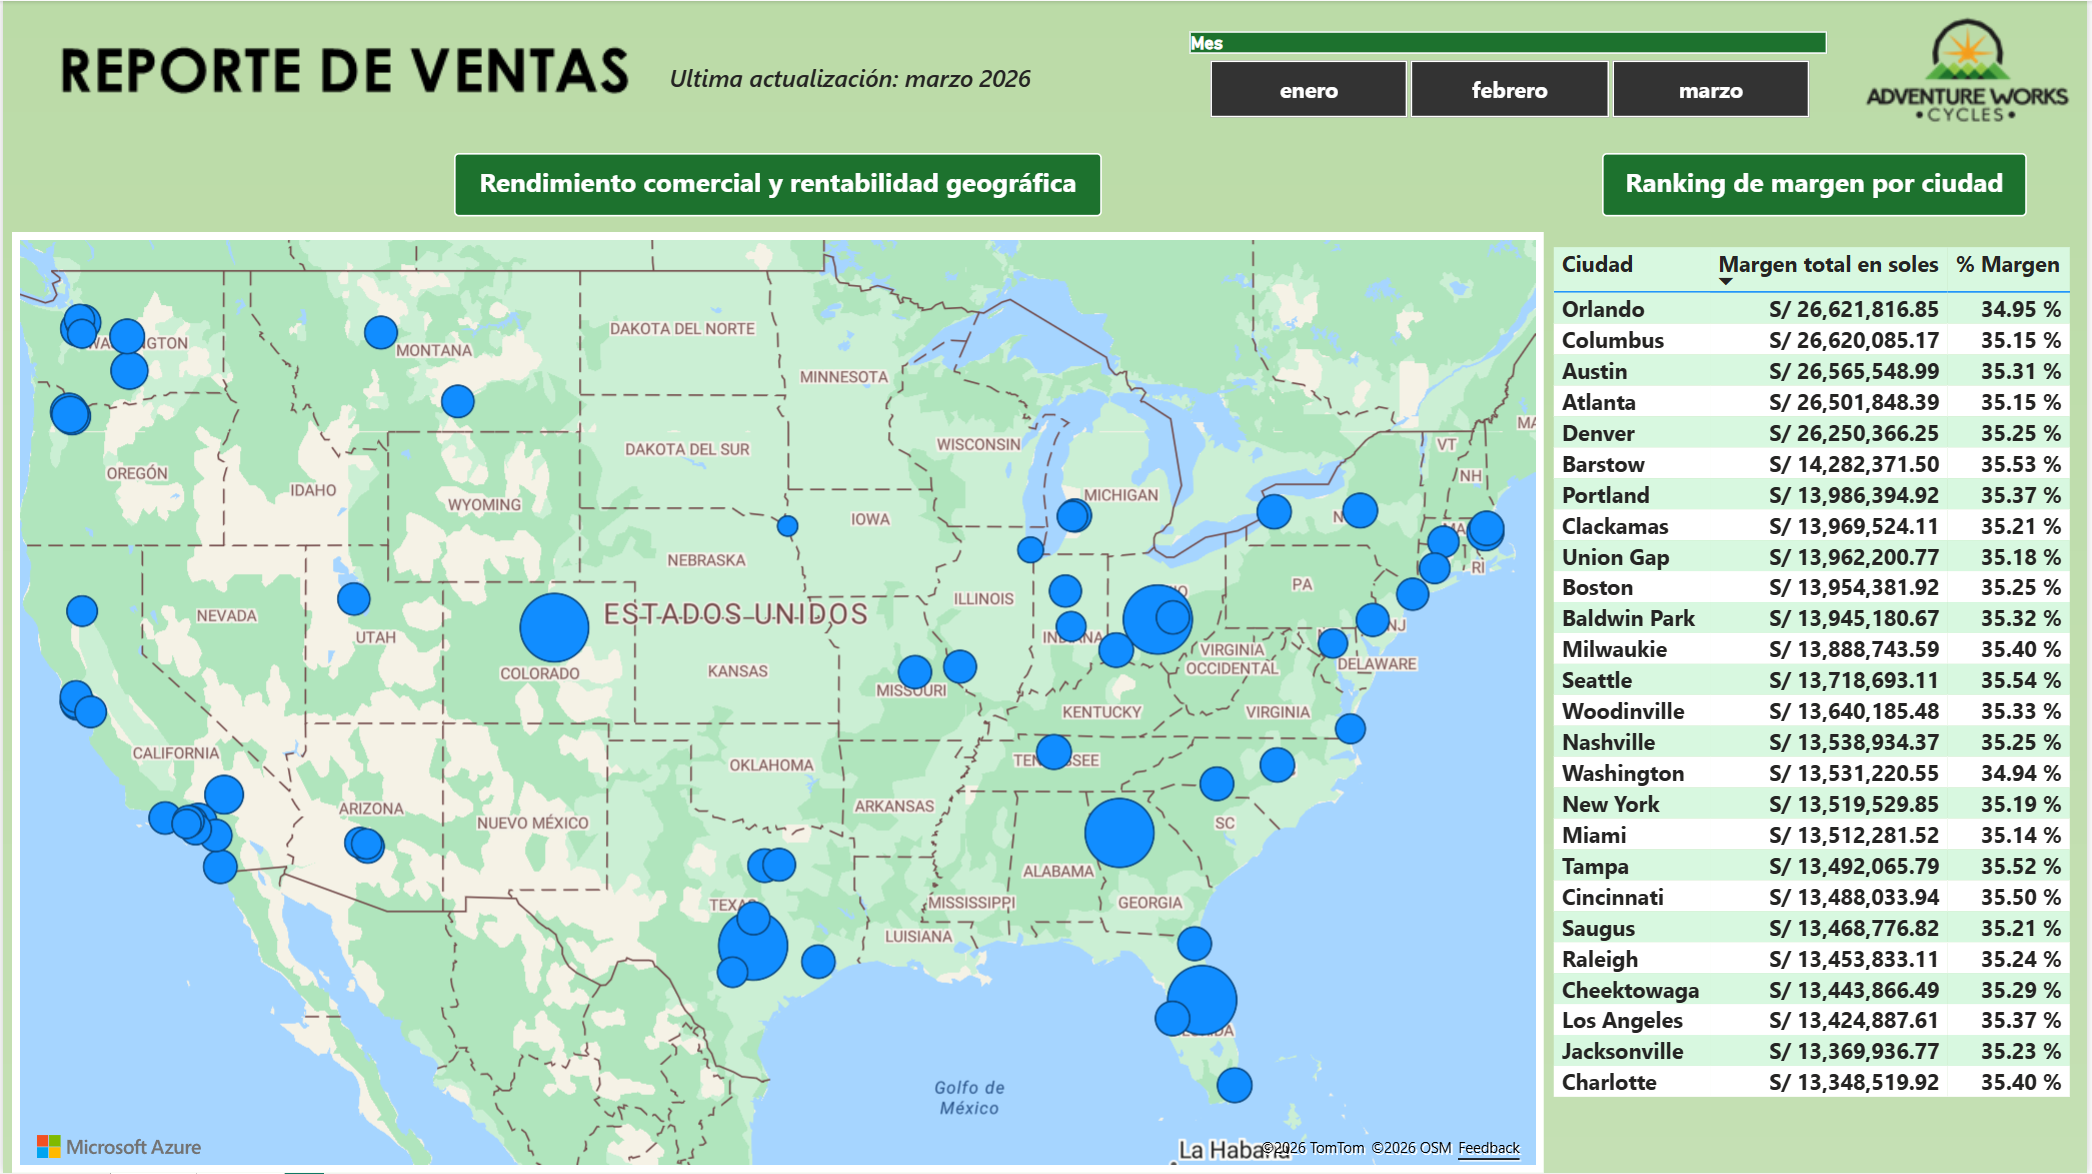

What the dashboard file says about the page in this screenshot:
{"tool":"powerbi","page":{"name":"Página 2","canvas":[1280,720],"ordinal":1},"visuals":[{"type":"slicer","fields":{"Values":["Dim_calendario.E_Month"]},"box":[715.7,13.5,418.2,65.4],"z":0},{"type":"cardVisual","fields":{"Data":["Fact_mensual.Actualización"]},"box":[380,21.2,296.4,50.4],"z":1},{"type":"textbox","box":[276.9,93.2,398.2,38.6],"z":2},{"type":"azureMap","fields":{"Category":["Dim_tiendas.Geografía"],"Size":["Medidas.Margen_Total_Soles_tc"]},"box":[5.8,141.9,941.1,577.7],"z":3},{"type":"tableEx","fields":{"Values":["Dim_tiendas.ciudad","Medidas.Margen_Total_Soles_tc","Fact_mensual.% Margen"]},"box":[946.8,146.4,333.2,550.8],"z":4},{"type":"textbox","box":[982.1,93.2,261.1,38.9],"z":5}]}

Visuals, with their boxes in screenshot pixels (x1, y1, x2, y2), scaled from the page's 1280x720 canvas onto the 2092x1174 screenshot:
slicer - Dim_calendario.E_Month: pyautogui.locateOnScreen(1170, 22, 1853, 129)
cardVisual - Fact_mensual.Actualización: pyautogui.locateOnScreen(621, 35, 1105, 117)
textbox: pyautogui.locateOnScreen(453, 152, 1103, 215)
azureMap - Dim_tiendas.Geografía x Medidas.Margen_Total_Soles_tc: pyautogui.locateOnScreen(9, 231, 1548, 1173)
tableEx - Dim_tiendas.ciudad x Medidas.Margen_Total_Soles_tc: pyautogui.locateOnScreen(1547, 239, 2091, 1137)
textbox: pyautogui.locateOnScreen(1605, 152, 2032, 215)
